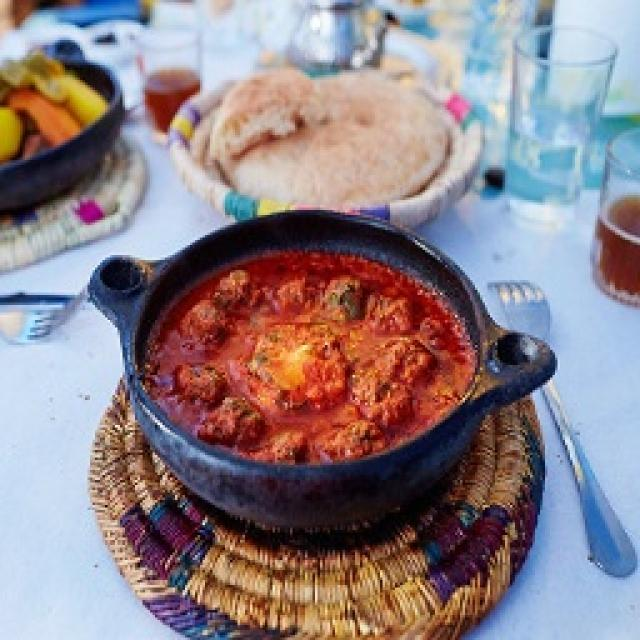Chakchouka: (142, 251, 476, 463)
